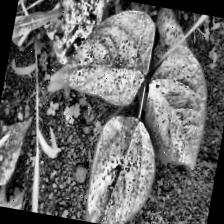Bean Rust: (46, 0, 162, 109), (134, 40, 216, 172), (82, 109, 165, 224), (37, 0, 116, 72)
